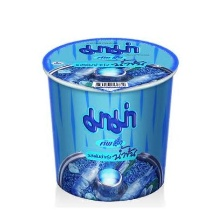paper_cup: (37, 32, 182, 206)
